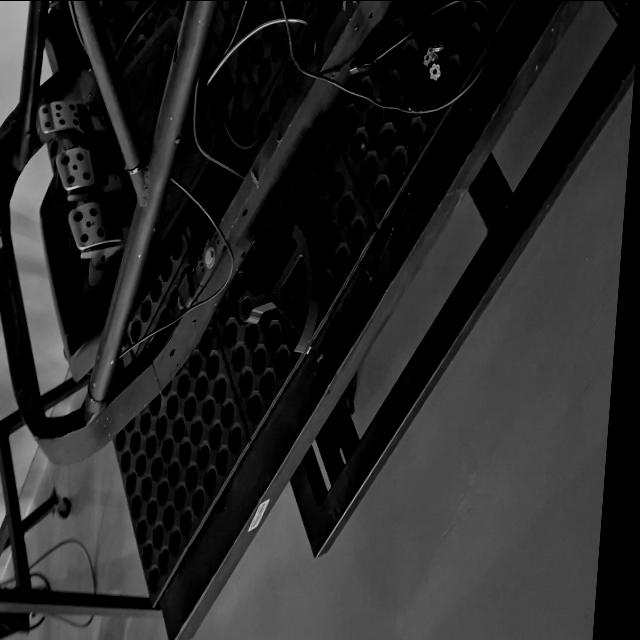haptic: (234, 222, 328, 354)
